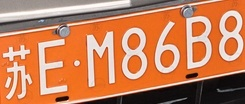E: (38, 39, 67, 95)
